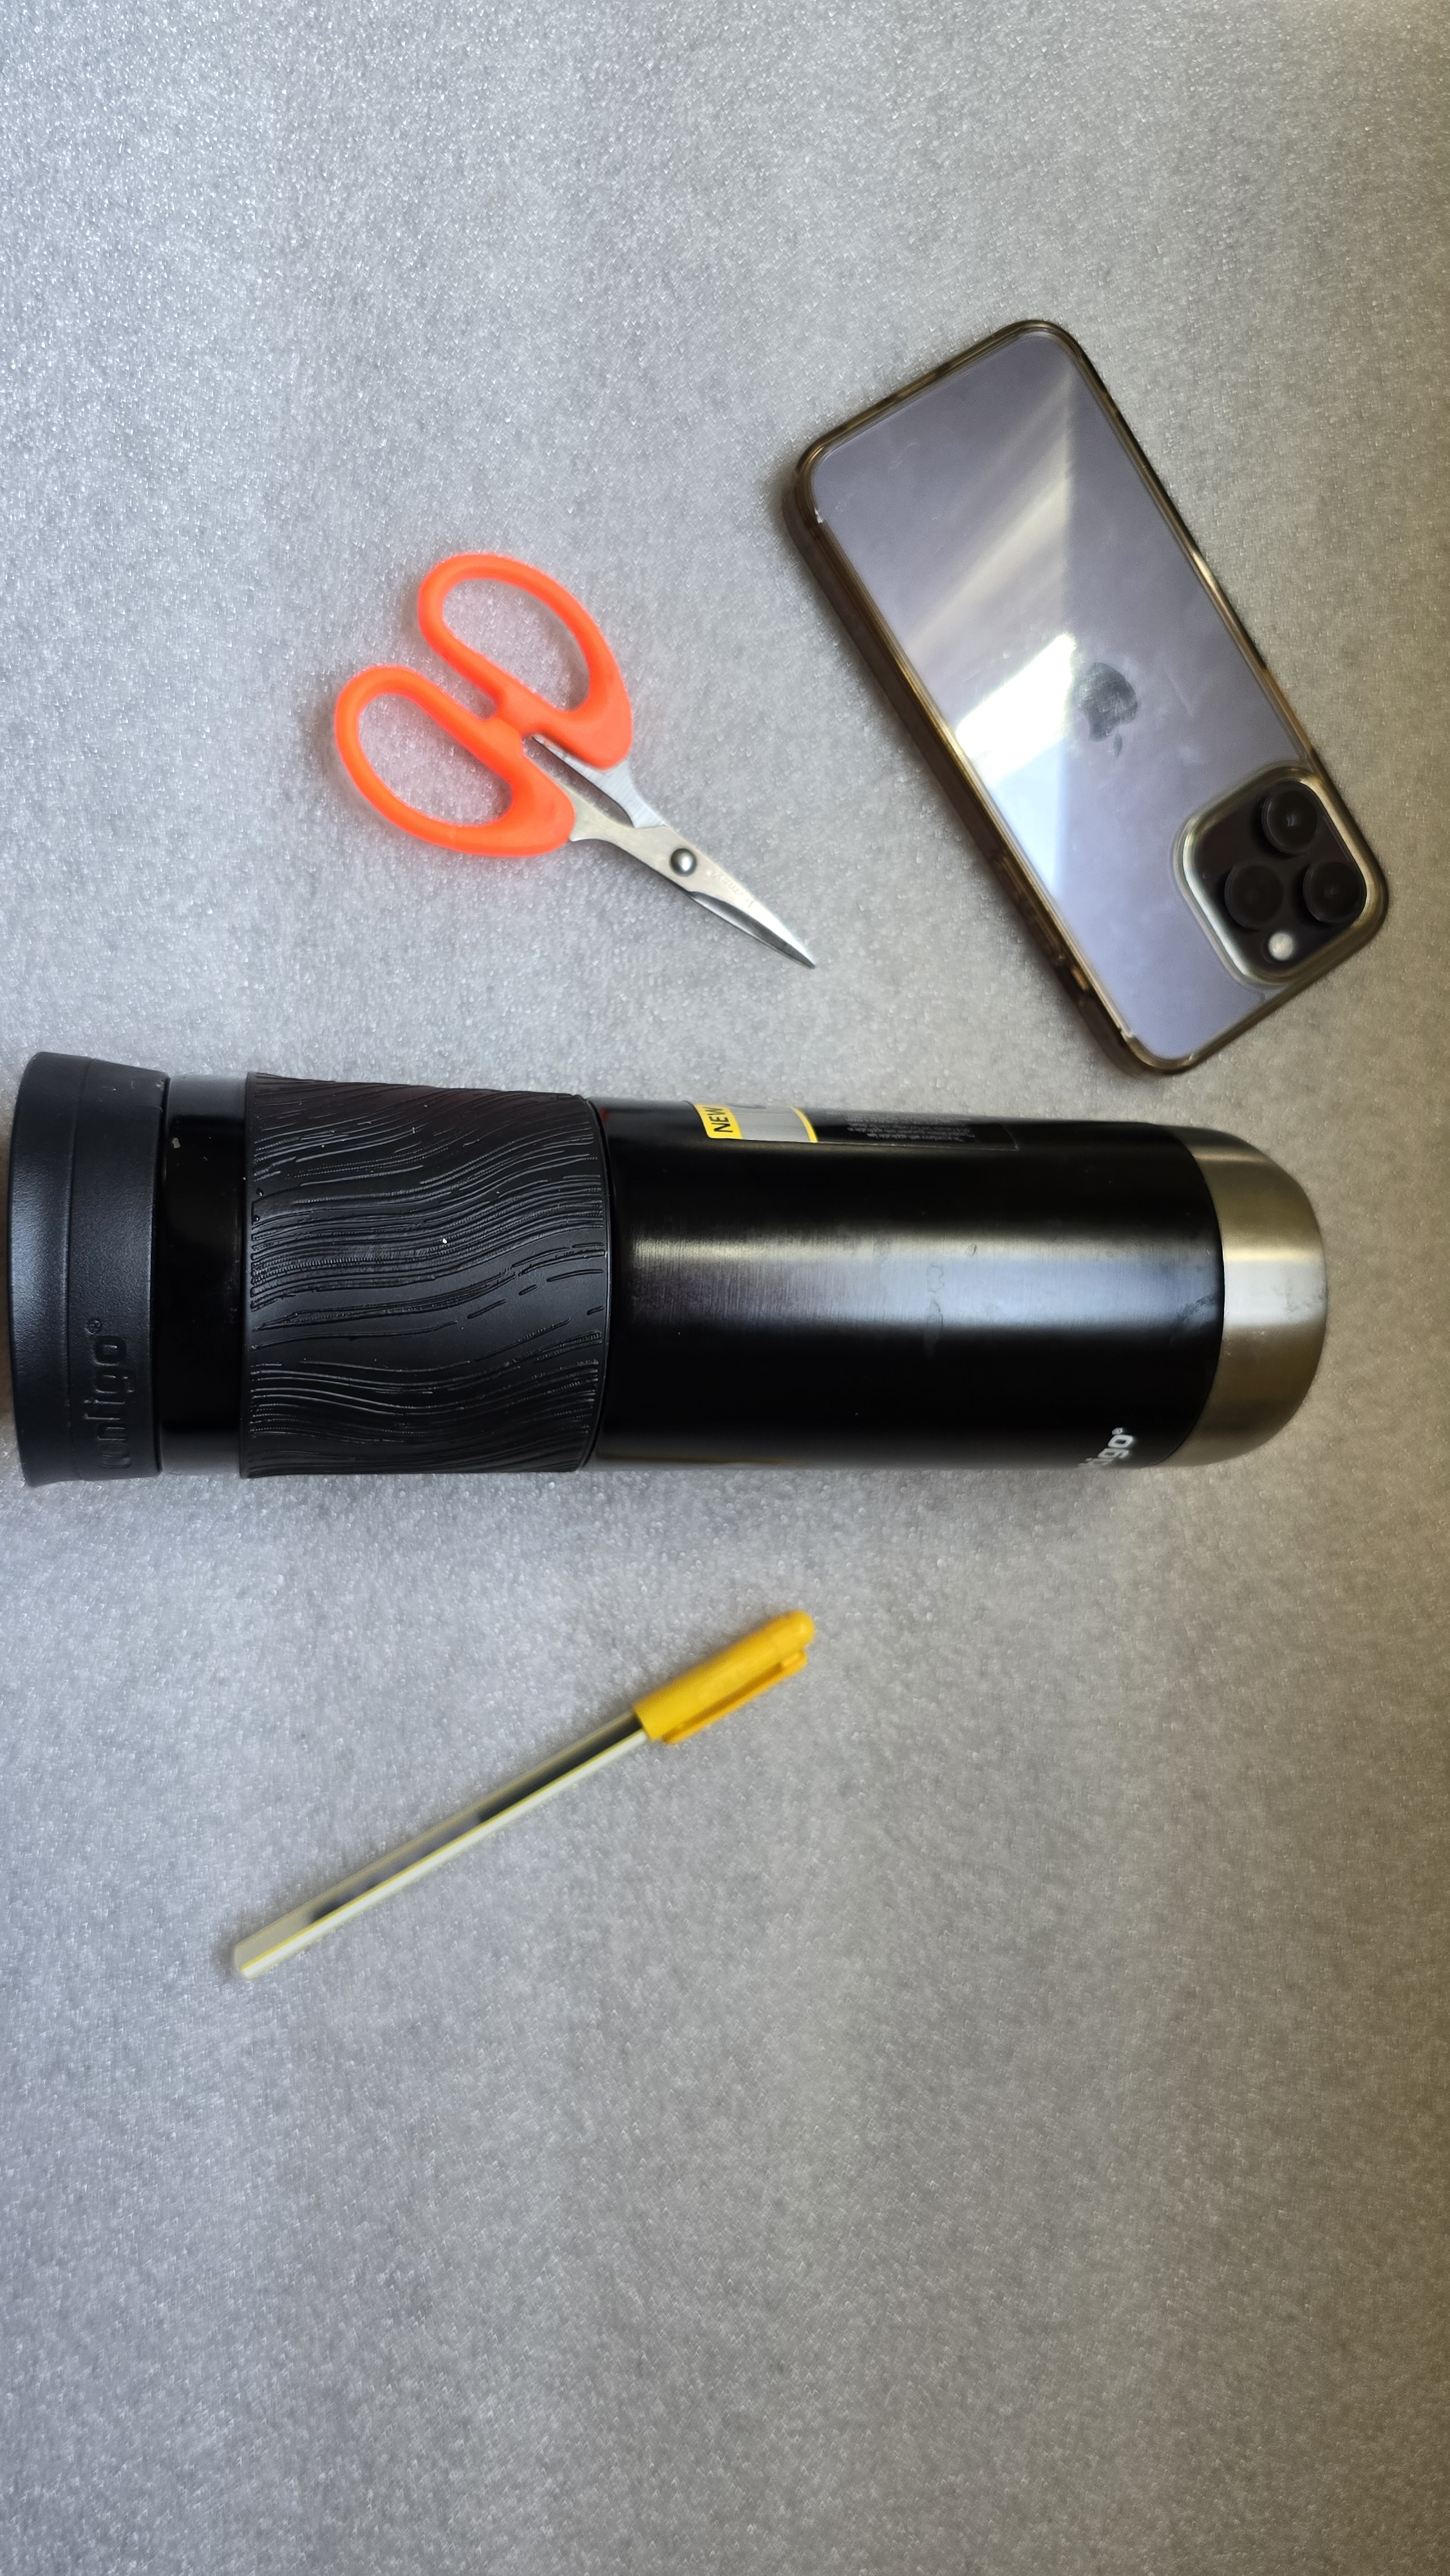bottle: (9, 1003, 1439, 1555)
